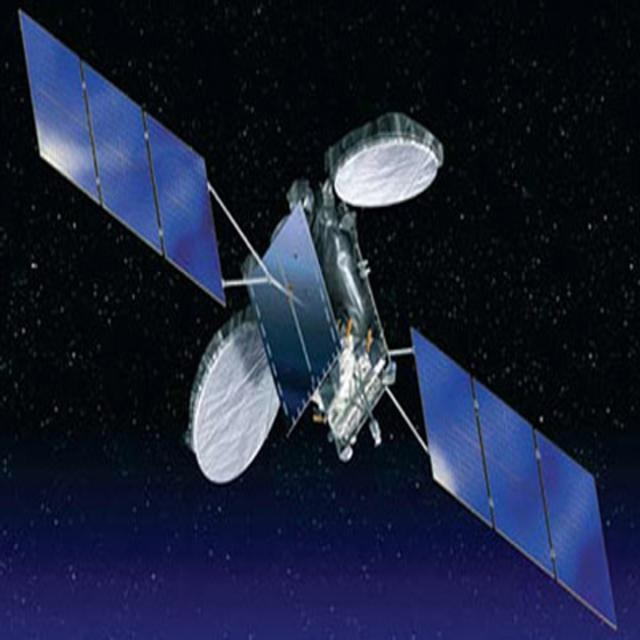medium_debris: (16, 0, 620, 631)
